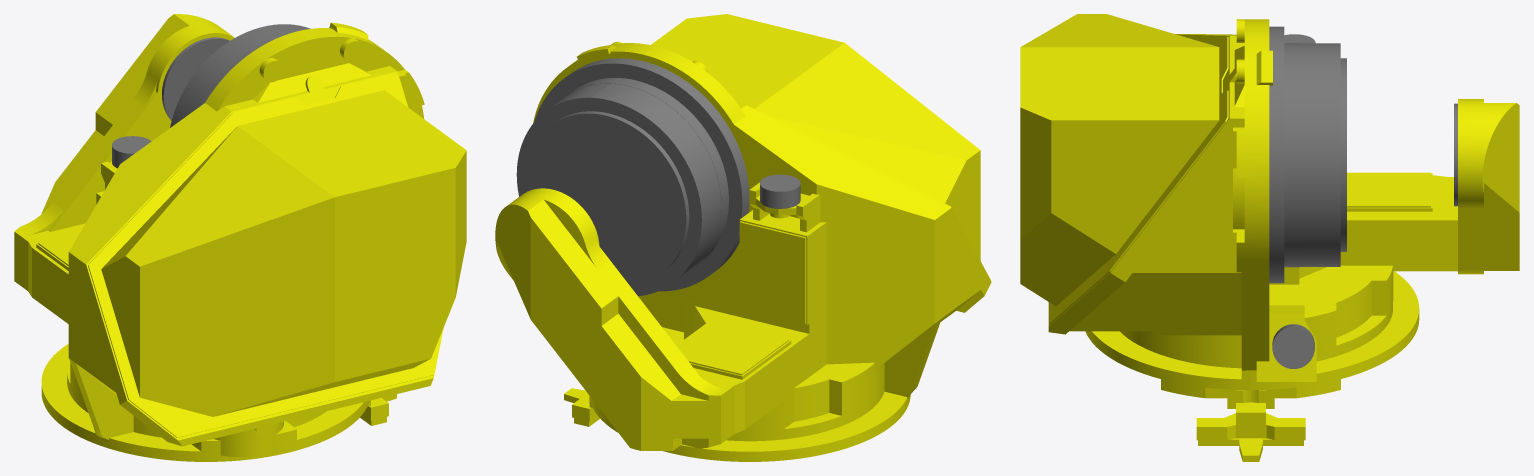
3 views of the same model, side by side, from view 1: azimuth 30°, elevation 25°; view 2: azimuth 150°, elevation 25°; view 3: azimuth 270°, elevation 25° (orthographic). The views are drawn at different scales.
Parts seen in each view (by area): view 1: Mesh_0; view 2: Mesh_0; view 3: Mesh_0.
Boxes of the visible parts, x1,y1,x2,y2 form: Mesh_0: (14, 14, 466, 461); Mesh_0: (495, 14, 991, 461); Mesh_0: (1020, 14, 1519, 461).
Size of the model in its own units: 0.566 by 0.6319 by 0.5405.
